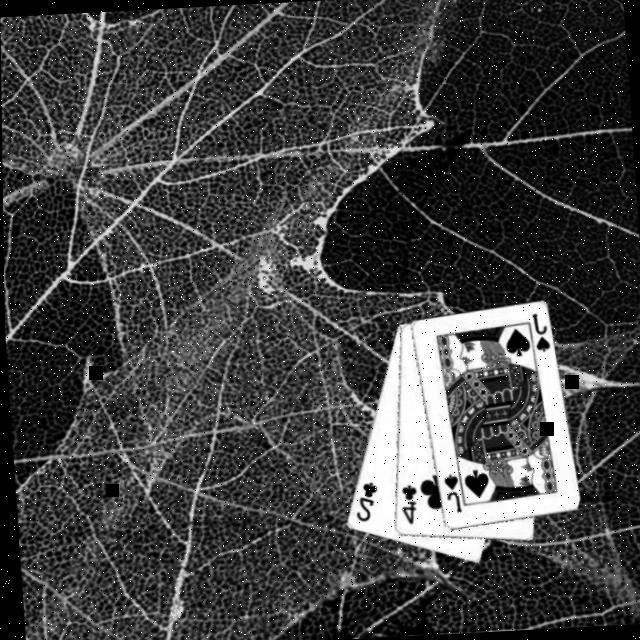2C: (351, 480, 382, 525)
4C: (397, 482, 422, 528)
JS: (530, 311, 554, 356), (441, 472, 464, 516)
